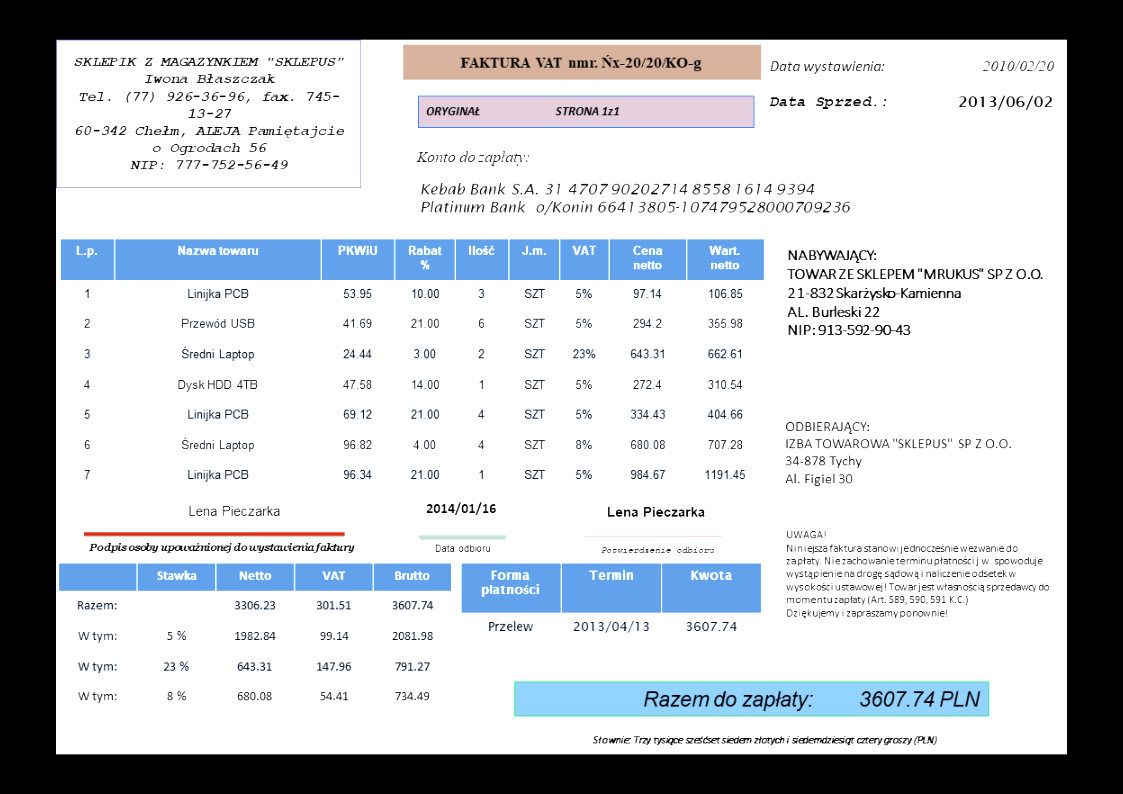Table: (58, 237, 766, 494), (57, 562, 452, 716), (460, 563, 764, 650)
TextBox: (71, 51, 348, 173), (782, 528, 1050, 622), (784, 247, 1046, 340), (782, 418, 1013, 488), (419, 179, 854, 216), (638, 688, 983, 711), (591, 731, 937, 748), (458, 52, 704, 74), (87, 539, 358, 556), (423, 103, 622, 120), (414, 148, 531, 168), (769, 93, 889, 112), (768, 58, 886, 74), (603, 502, 706, 520), (956, 93, 1053, 110), (186, 502, 282, 518), (600, 543, 715, 555), (423, 500, 499, 517), (980, 58, 1055, 73), (433, 541, 493, 555)
